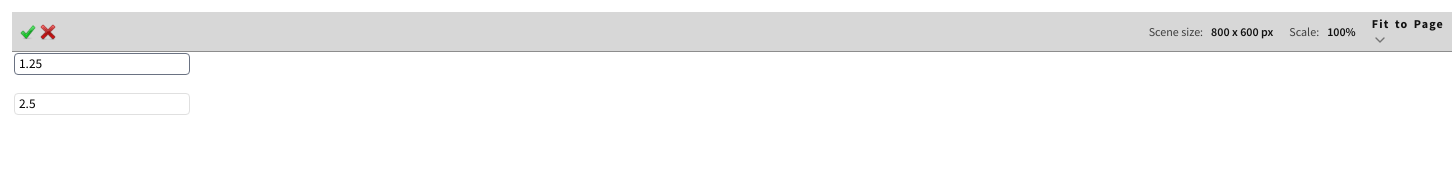
Scenario: ControllerContainer integration › runs the Escape default before controller key handlers with stopPropagation=false
Replace the text in the 1st field with test id "editable-double-line-edit" with "3.5" at (102, 64), box [14,53,190,75]
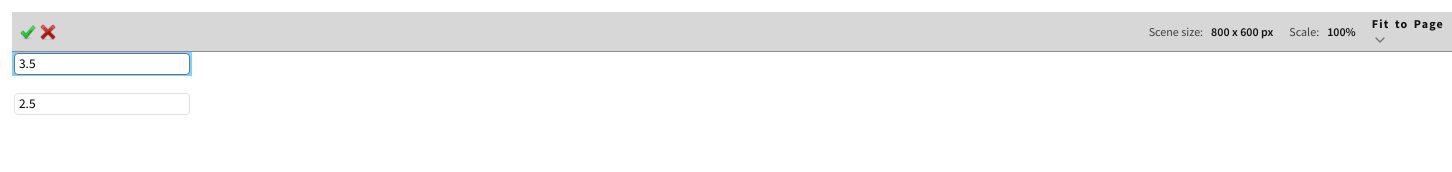
Press Escape in the 1st field with test id "editable-double-line-edit", box [14,53,190,75]
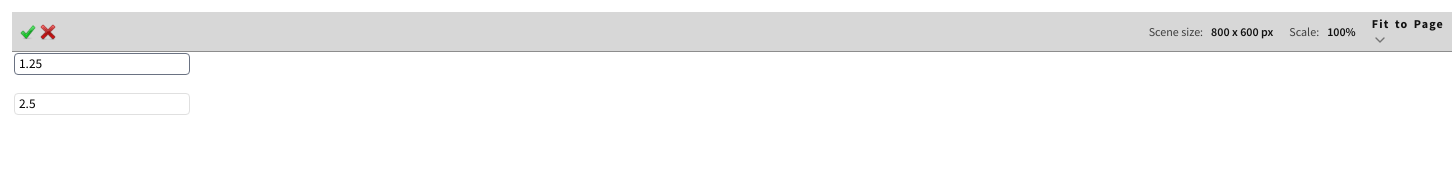
expect the 1st field with test id "editable-double-line-edit" holds "1.25": met, box [14,53,190,75]
